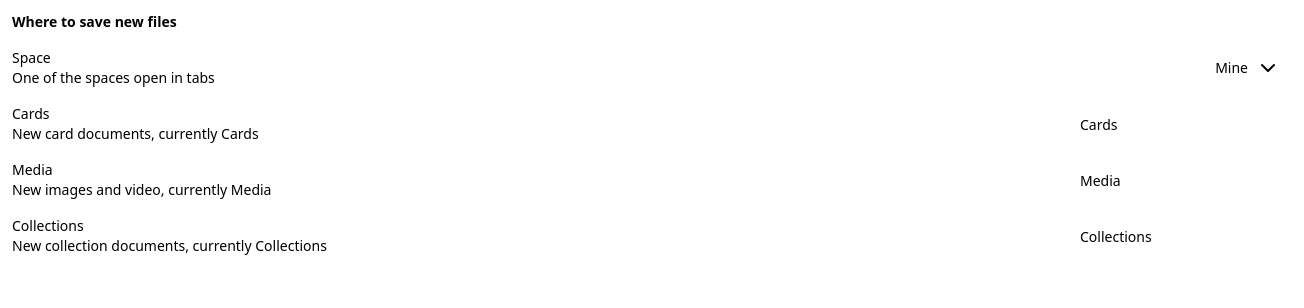
Test: LayoutSection › surfaces a rejected folder and keeps the saved value
The width and height of the screenshot is (1304, 308).
Replace the text in the field named "Cards" with "../outside". click: (1180, 124)
box: [1068,108,1292,140]
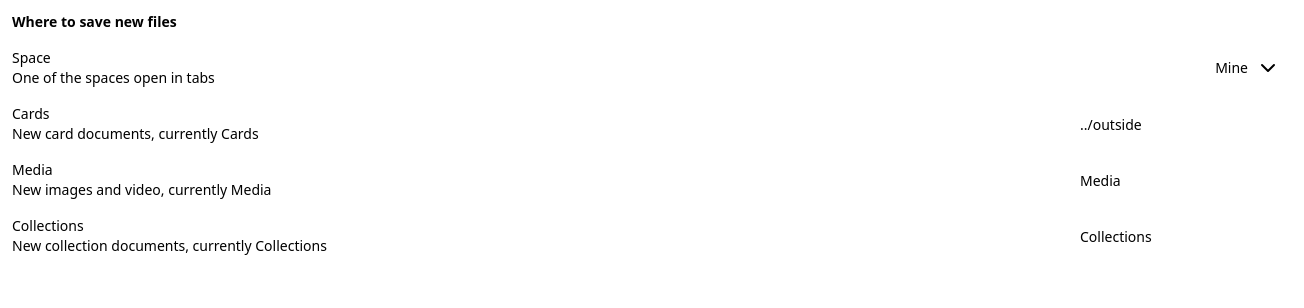
Press Tab
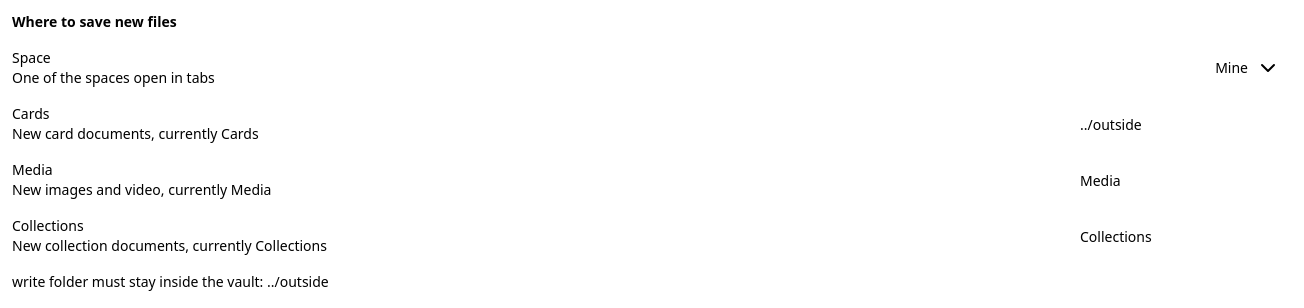
Expected: the text "write folder must stay inside the vault: ../outside" is shown, [12,272,329,291]
